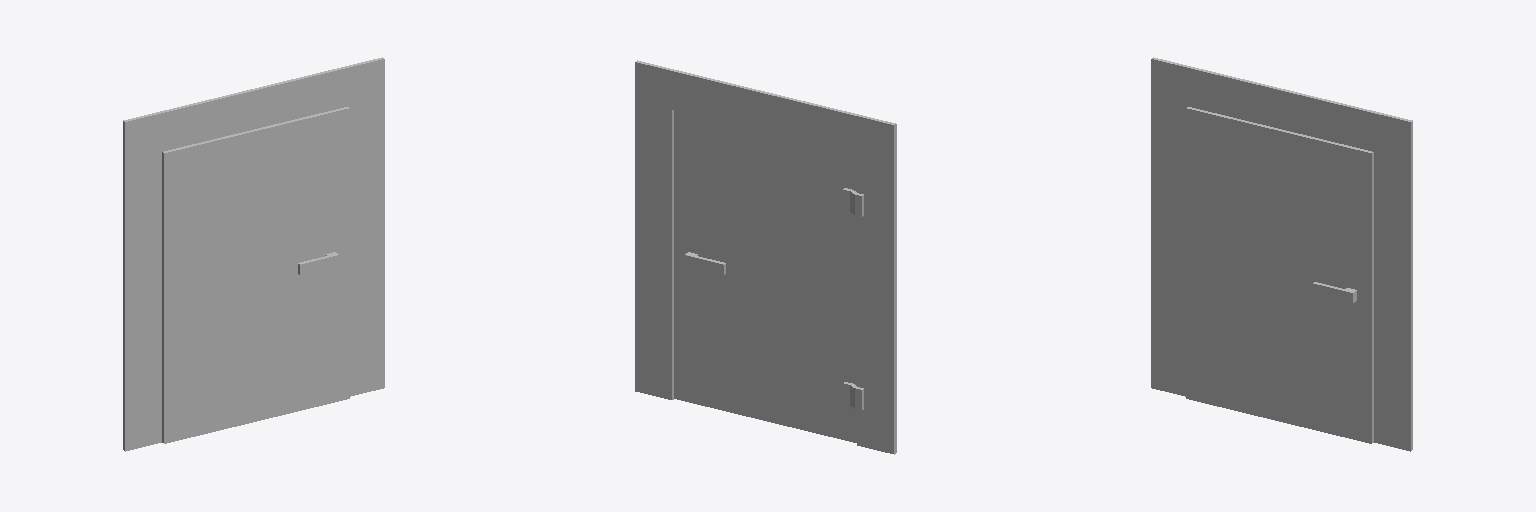
Rendered from door_frame.obj.
3 renders of one model, left to right at view 1: azimuth 30°, elevation 25°; view 2: azimuth 150°, elevation 25°; view 3: azimuth 330°, elevation 25°, orthographic.
Parts seen in each view (by area): view 1: DoorFrame; view 2: DoorFrame; view 3: DoorFrame.
Boxes of the visible parts, x1,y1,x2,y2 form: DoorFrame: [123, 57, 384, 451]; DoorFrame: [635, 60, 896, 454]; DoorFrame: [1151, 57, 1412, 451].
Bounding box in the file's own units: 0.7 × 0.8501 × 0.05.